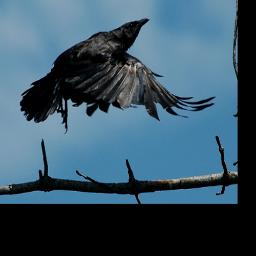Crow: (22, 16, 220, 135)
